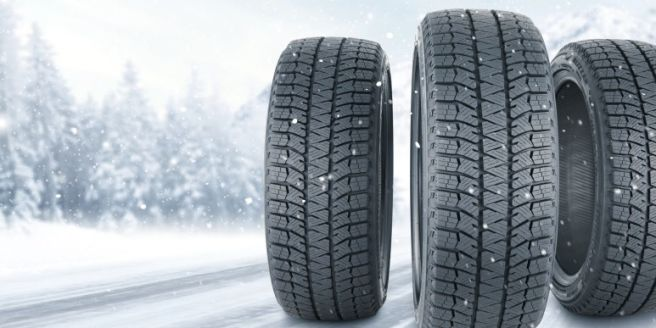new_condition: (413, 9, 554, 328), (263, 36, 396, 324)
